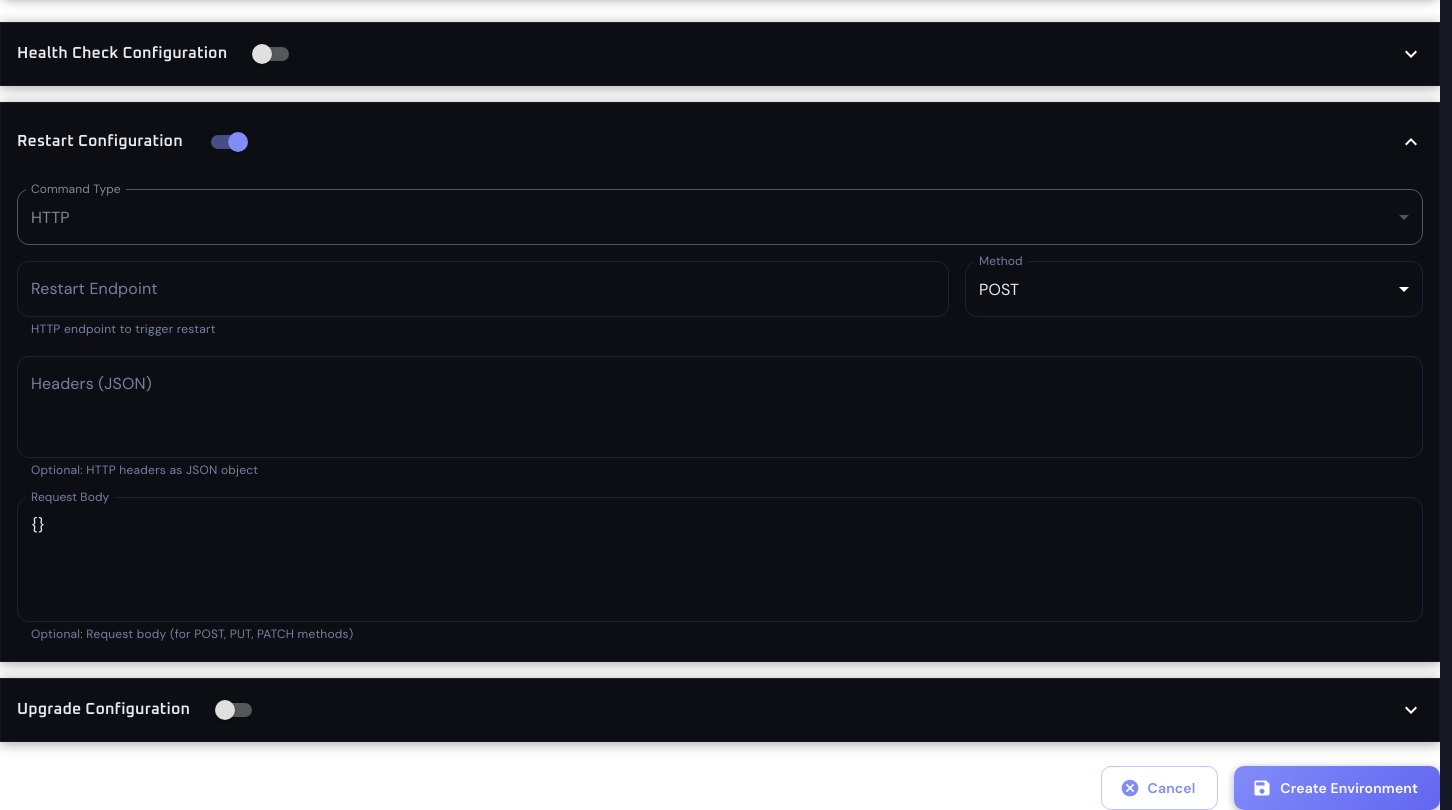
EnvironmentForm › should show upgrade config fields when upgrade is enabled
(page scrolled)
# upgrade switch is index 2
Click the 3rd checkbox at {"x": 225, "y": 710}, box [215, 700, 235, 720]
(page scrolled)
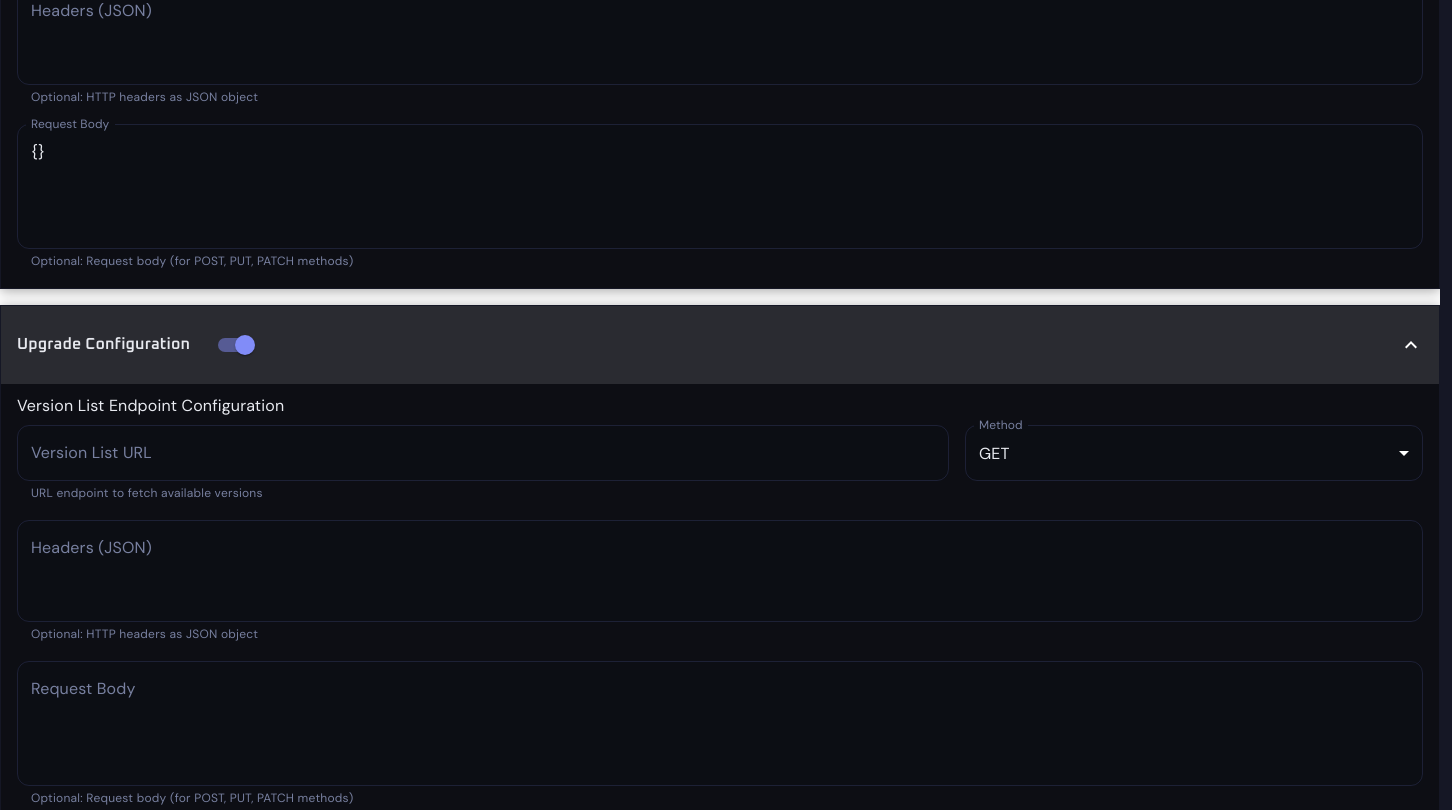
expect the heading "Version List Endpoint Configuration" is shown: met, box [17, 395, 284, 416]
